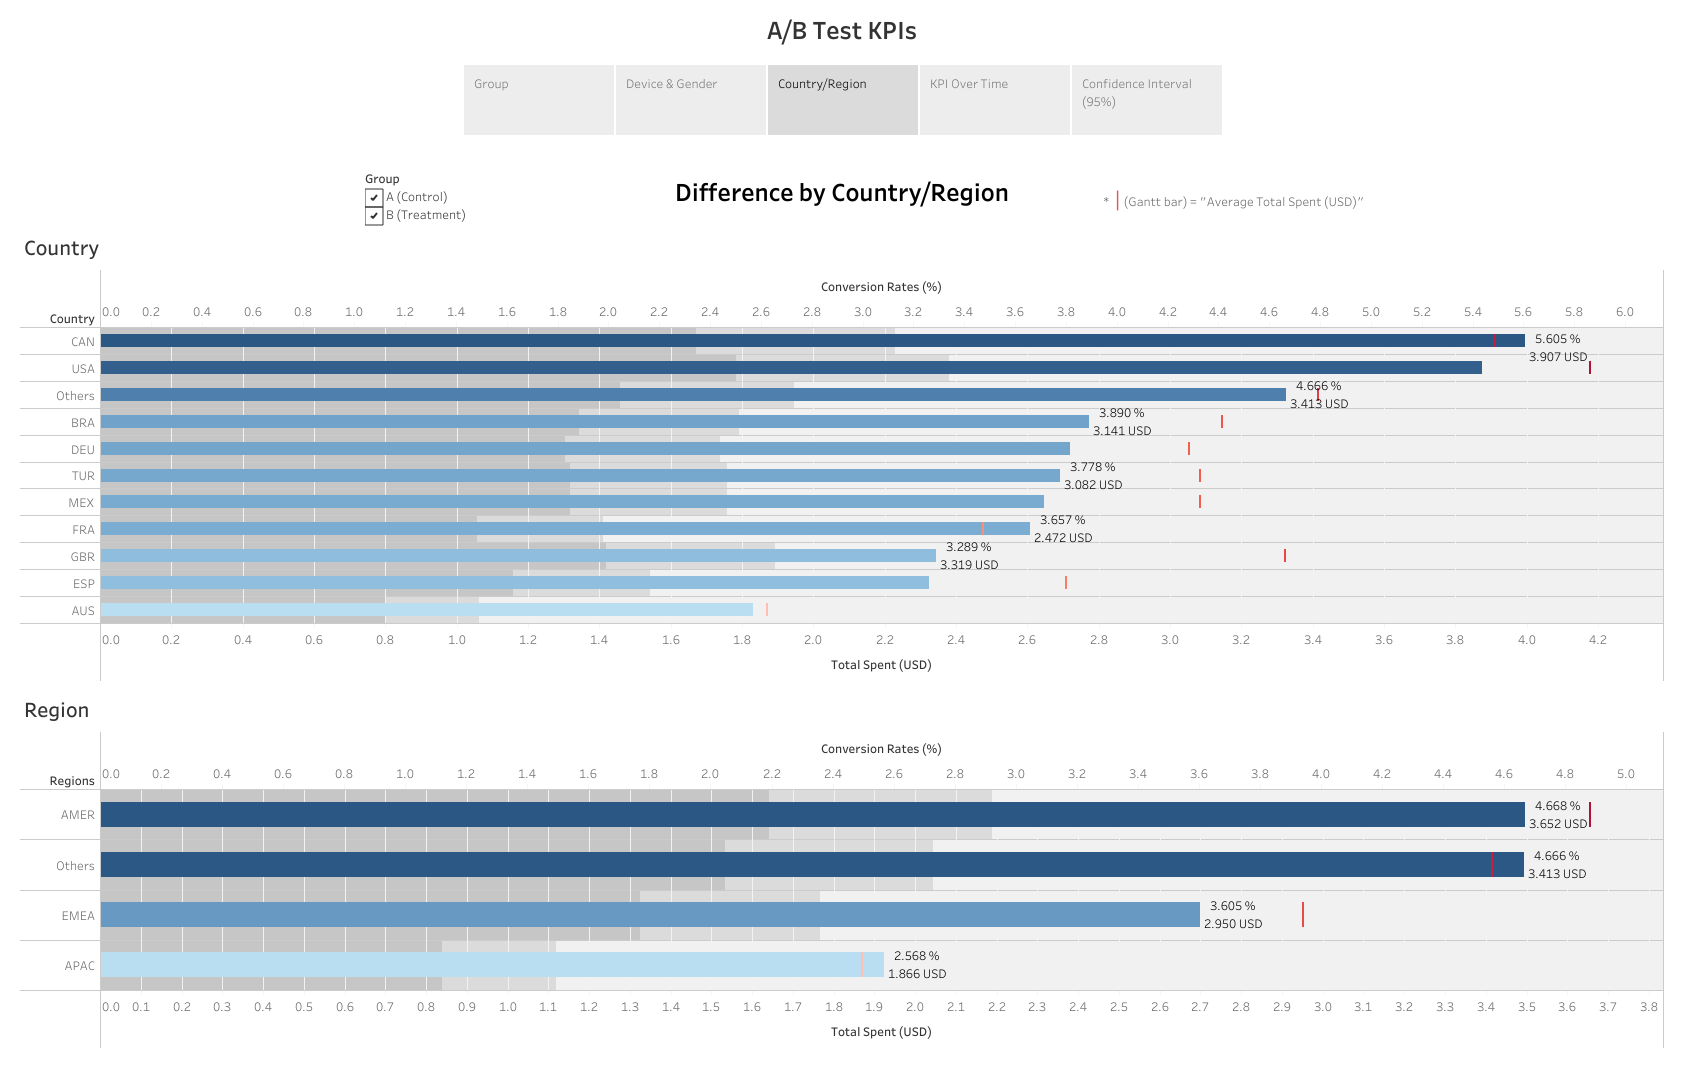

The page's visual inventory and layout, read from the dashboard file:
{"tool":"tableau","page":{"name":"Difference by Country/Region","canvas":[1000,1000],"units":"permille","ordinal":1},"visuals":[{"type":"text","box":[4.8,9.4,990.3,69.8]},{"type":"filter","title":"Test Metrics by Country (Bullet)","param":"[federated.0faq6xn0g6y1d01a19ll80l3u13v].[none:group:nk]","box":[214.2,18.8,141.3,131.6]},{"type":"text","box":[655.1,22.3,302.4,58.8]},{"type":"worksheet","title":"Test Metrics by Country (Bullet)","mark":"Bar","rows":["country"],"cols":["total_spent","Calculation_1055812696947208192"],"box":[4.8,79.2,990.3,508]},{"type":"worksheet","title":"Test Metrics by Region (Bullet)","mark":"Bar","cols":["total_spent","Calculation_1055812696947208192"],"box":[4.8,587.2,990.3,403.4]}]}

Visuals, with their boxes on the dashboard's canvas, which has no fixed pixel size, in thousandths of its width and height (x1, y1, x2, y2). These are canvas units, not pixel positions in the 1683x1067 screenshot, which may show the page scaled, cropped or inside an application window:
text: Rect(5, 9, 995, 79)
"Test Metrics by Country (Bullet)" filter: Rect(214, 19, 356, 150)
text: Rect(655, 22, 958, 81)
"Test Metrics by Country (Bullet)" worksheet (Bar marks): Rect(5, 79, 995, 587)
"Test Metrics by Region (Bullet)" worksheet (Bar marks): Rect(5, 587, 995, 991)
